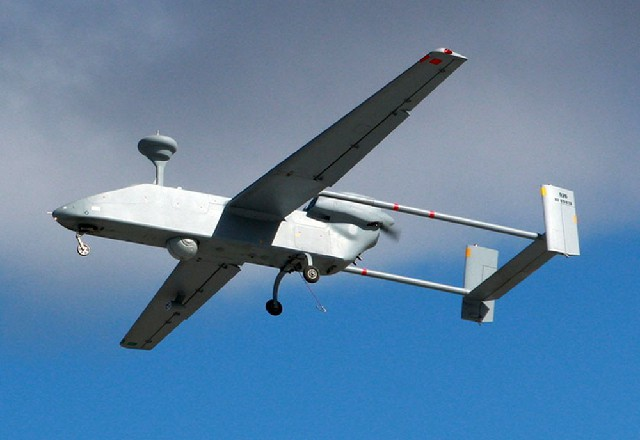maybay_khongnguoilai: (54, 51, 577, 351)
